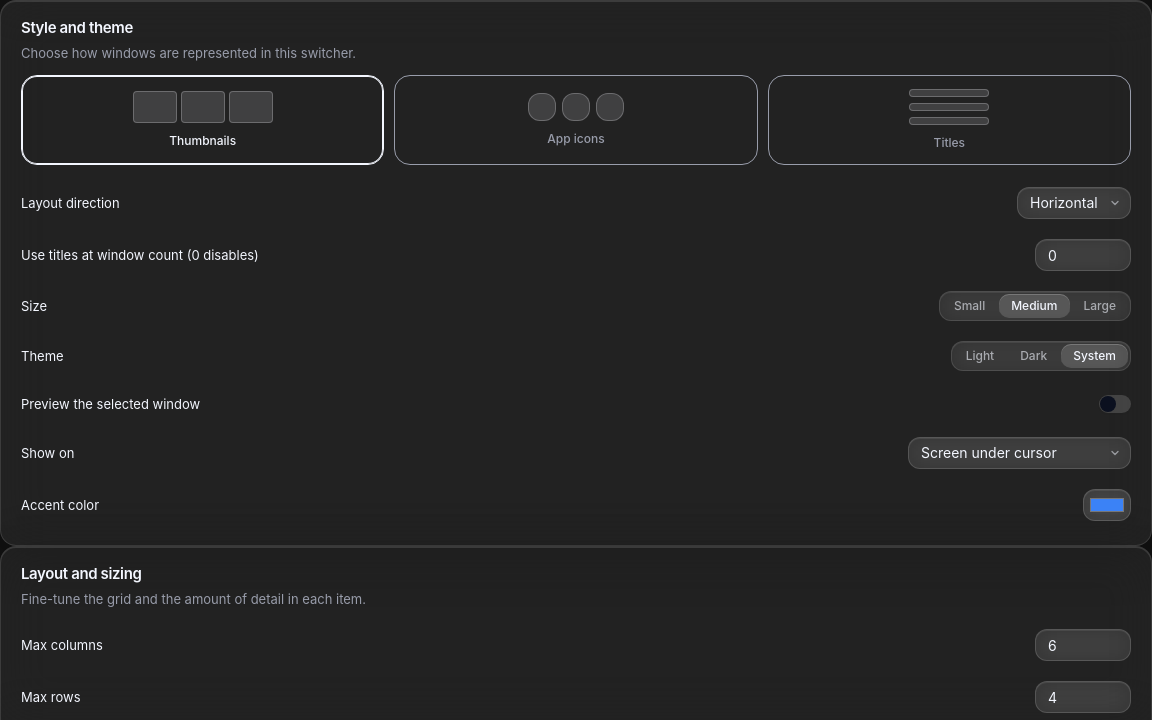
Test: commits Max rows once on blur and clamps it to the field bounds
Replace the text in the number field labelled "Max rows" with "3" at [1083, 697], box [1035,681,1131,713]
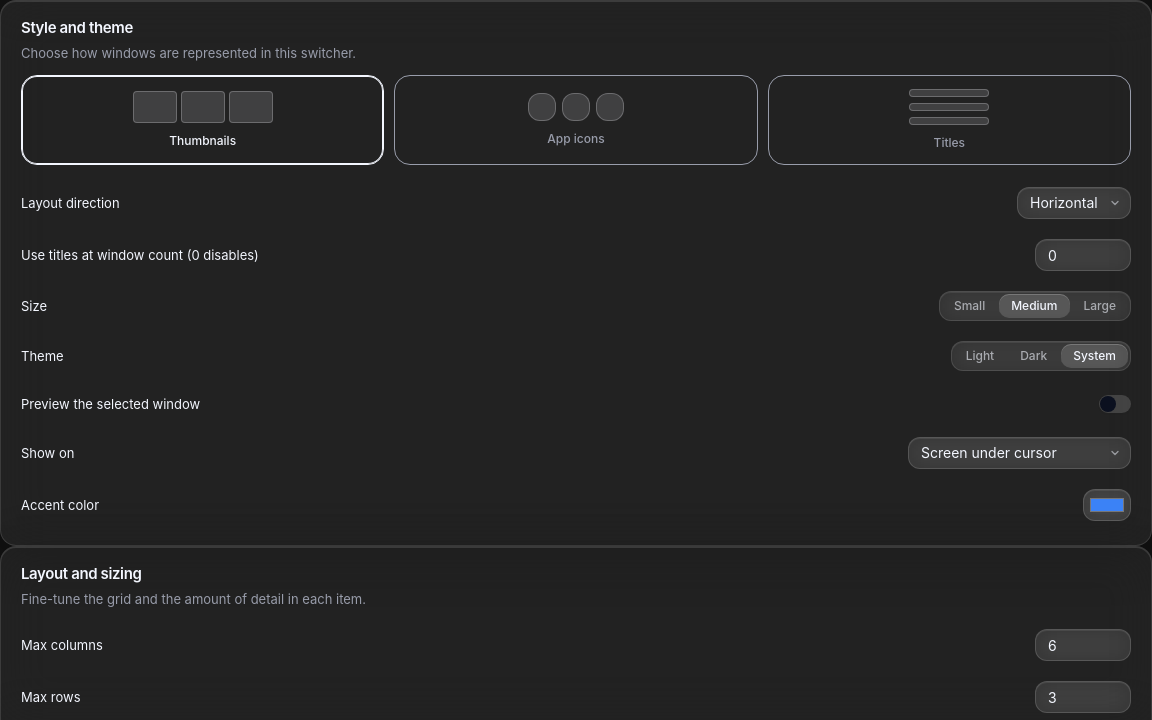
Leave the number field labelled "Max rows", box [1035,681,1131,713]
Replace the text in the number field labelled "Max rows" with "0" at [1083, 697], box [1035,681,1131,713]
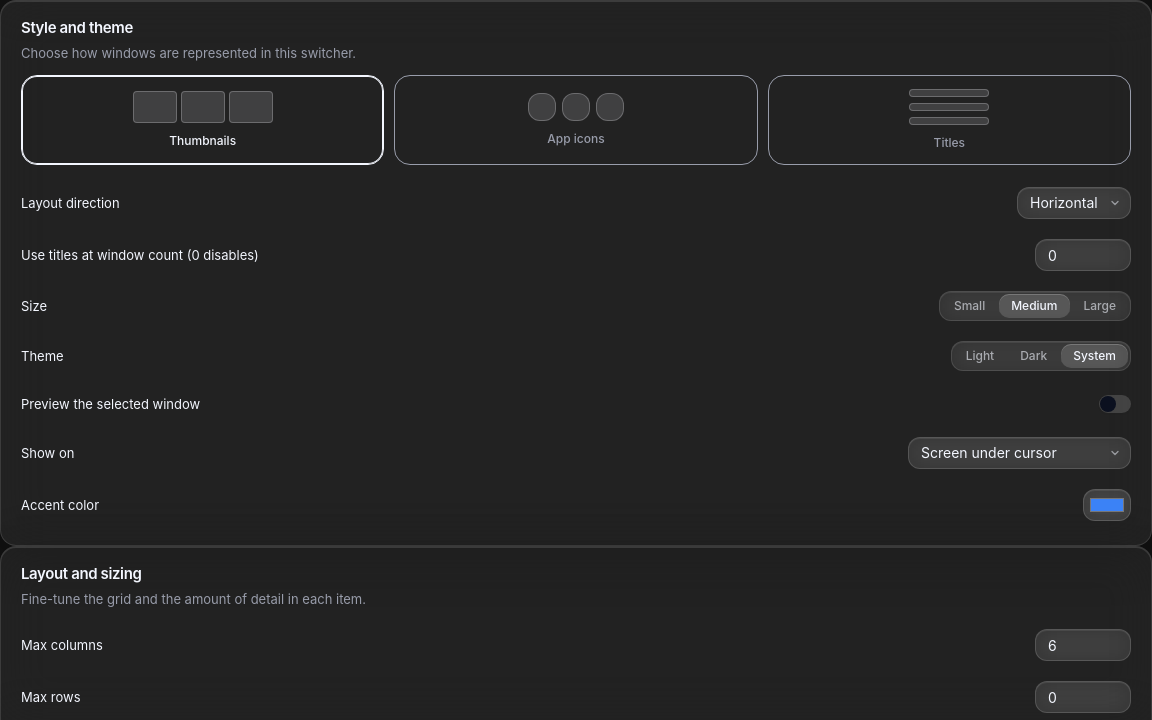
Leave the number field labelled "Max rows", box [1035,681,1131,713]
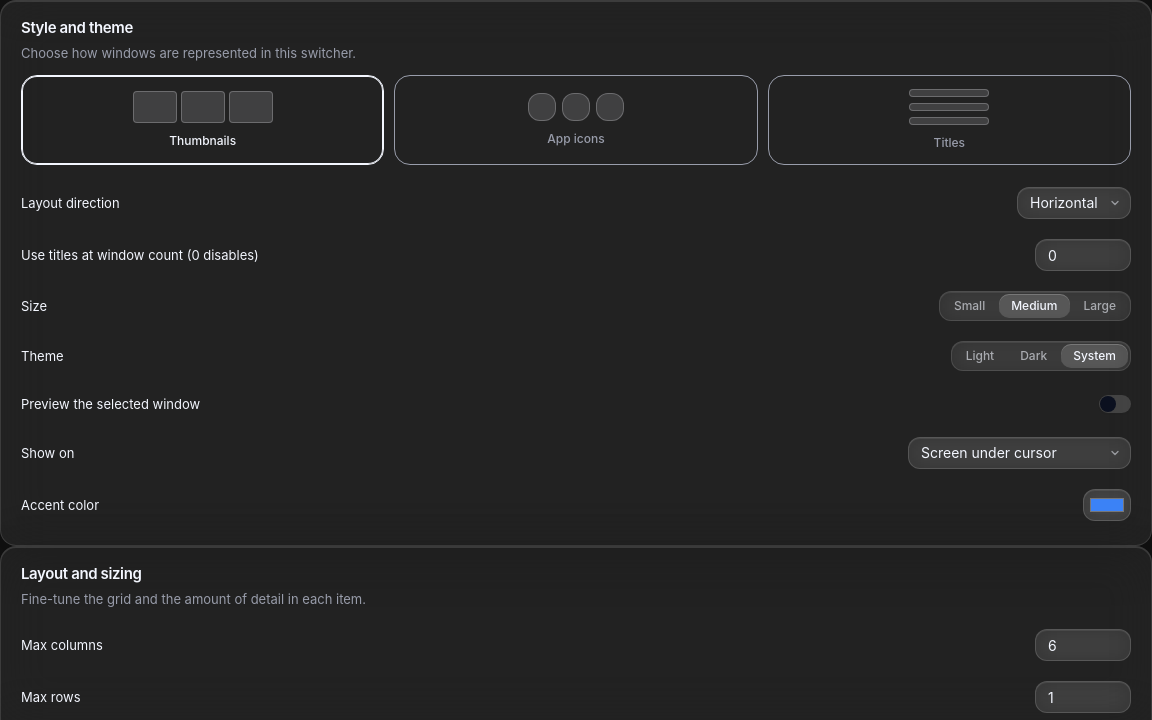
Check: the number field labelled "Max rows" holds "1", box [1035,681,1131,713]
